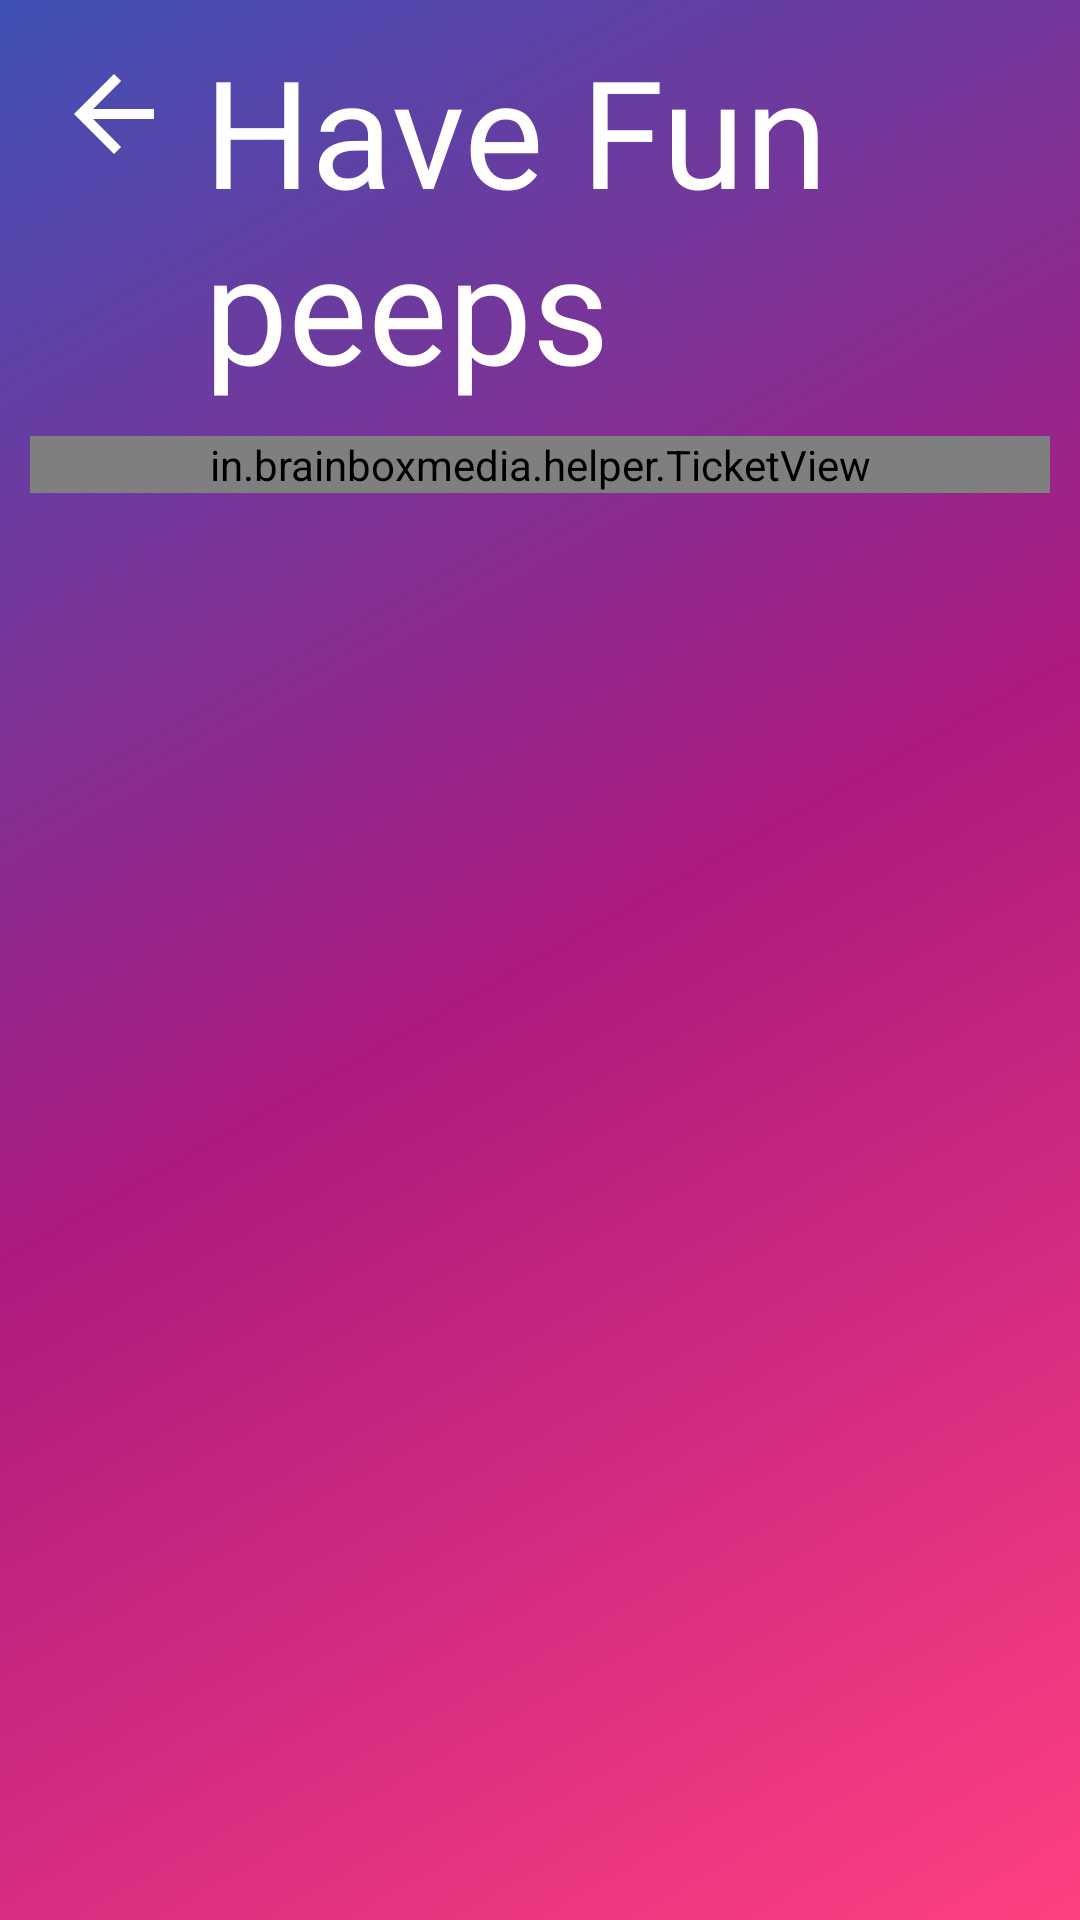

Screen size 1080px×1920px. Icon name, then its center in pixels as point (x, y):
arrow back: point (114, 114)
